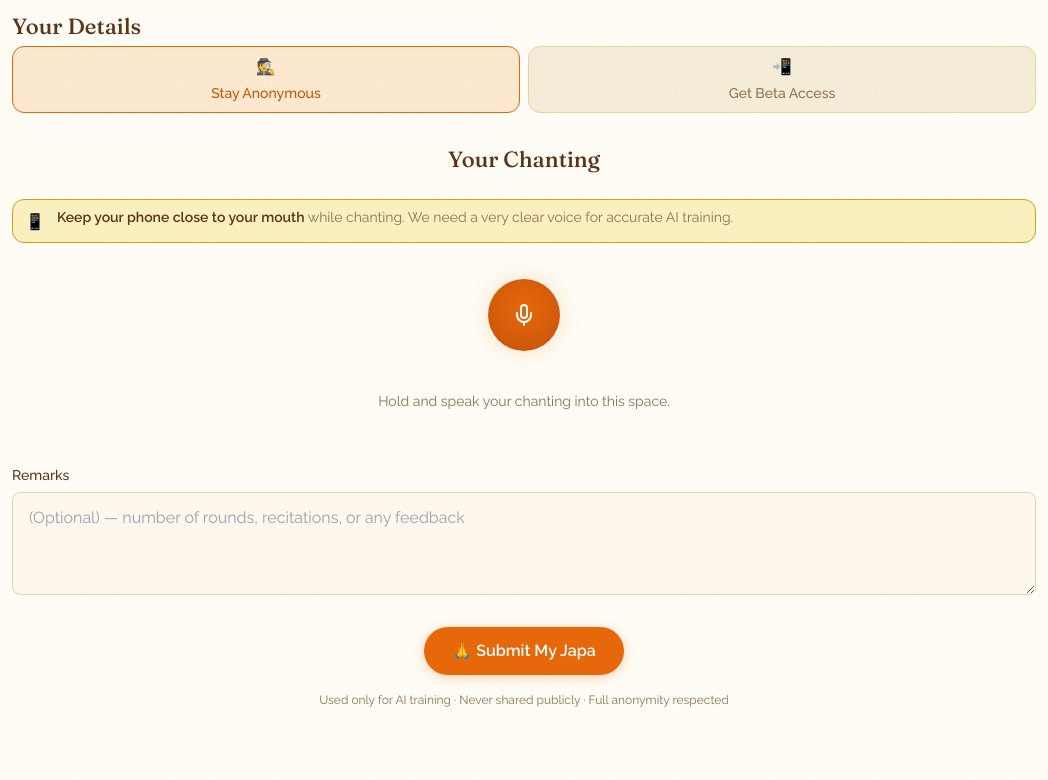
Test: SubmissionForm validation › shows the recording prompt when submitting without a recording
Step 1. Click the button "🙏 Submit My Japa" → (524, 651), box [424,627,624,675]
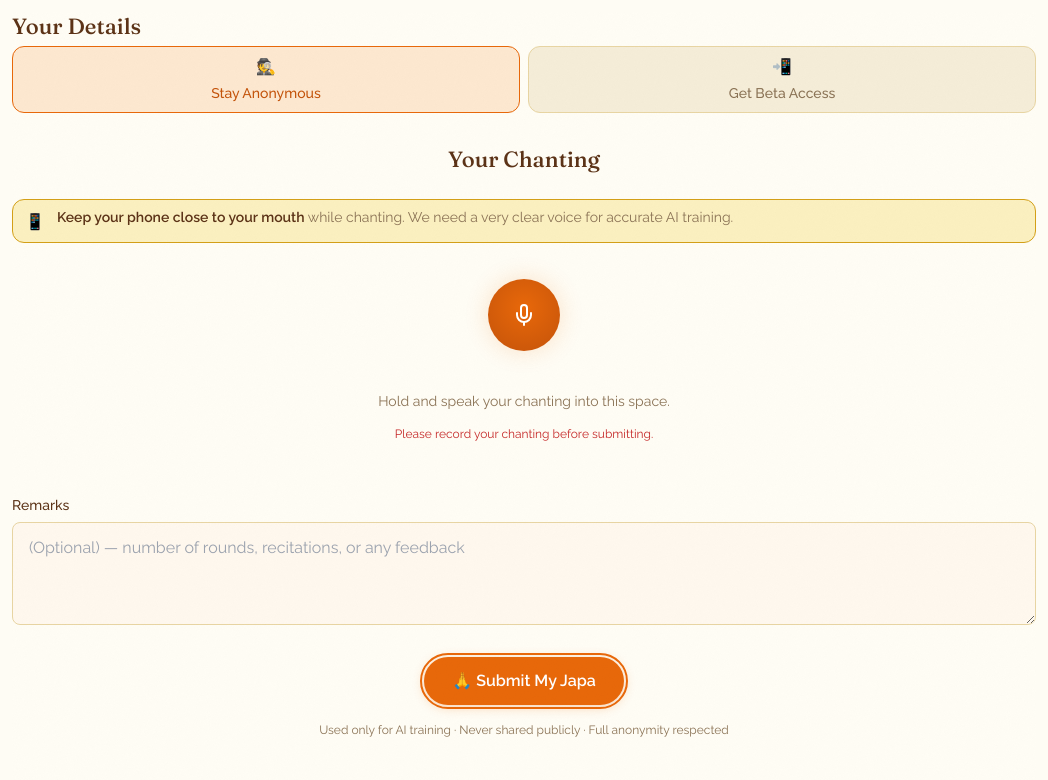
Now the message shows "record your chanting before submitting", box [395,427,653,441]
